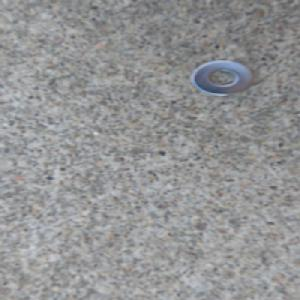Washer: (187, 58, 255, 97)
